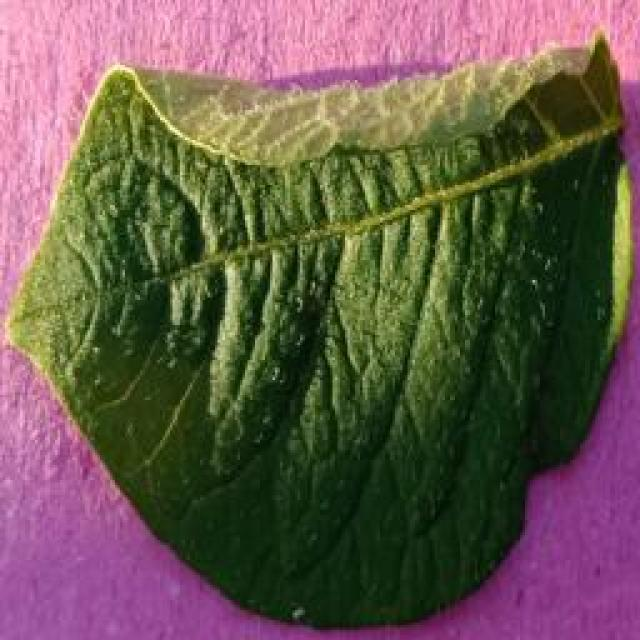Potato_Healthy: (6, 34, 624, 627)
